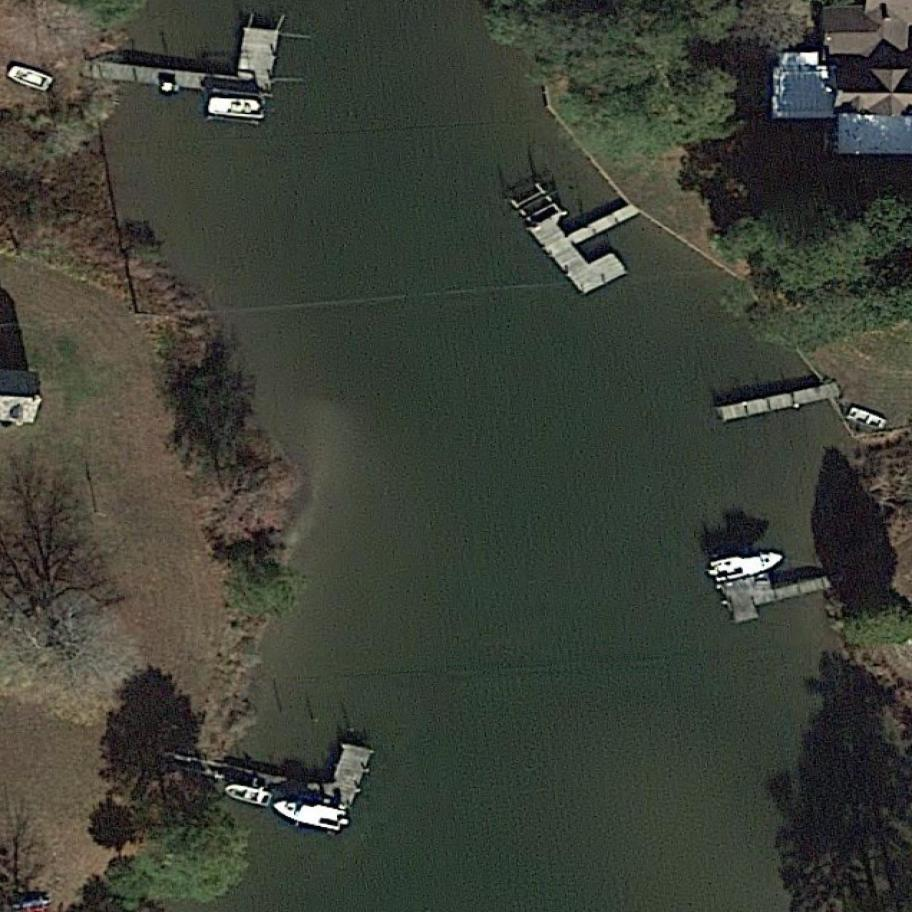ship: (707, 542, 787, 585), (271, 795, 347, 833), (6, 59, 56, 95), (222, 781, 275, 810), (206, 96, 267, 120), (843, 403, 889, 434)
